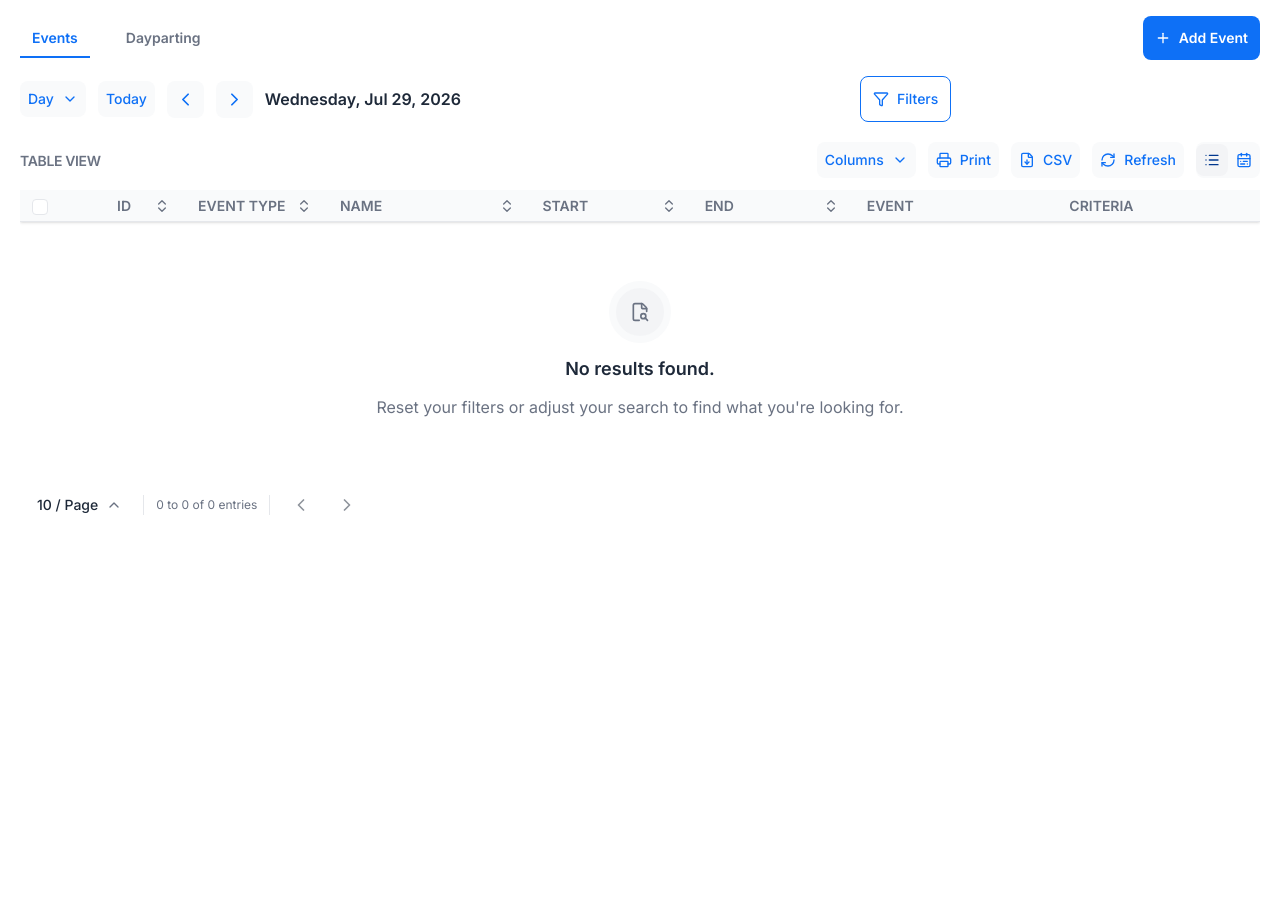
Test: Events page – calendar view toggle › clicking Calendar View toggle switches to calendar view
Click the button titled "Calendar View" at [1244, 160], box x1=1228 y1=144 x2=1260 y2=176
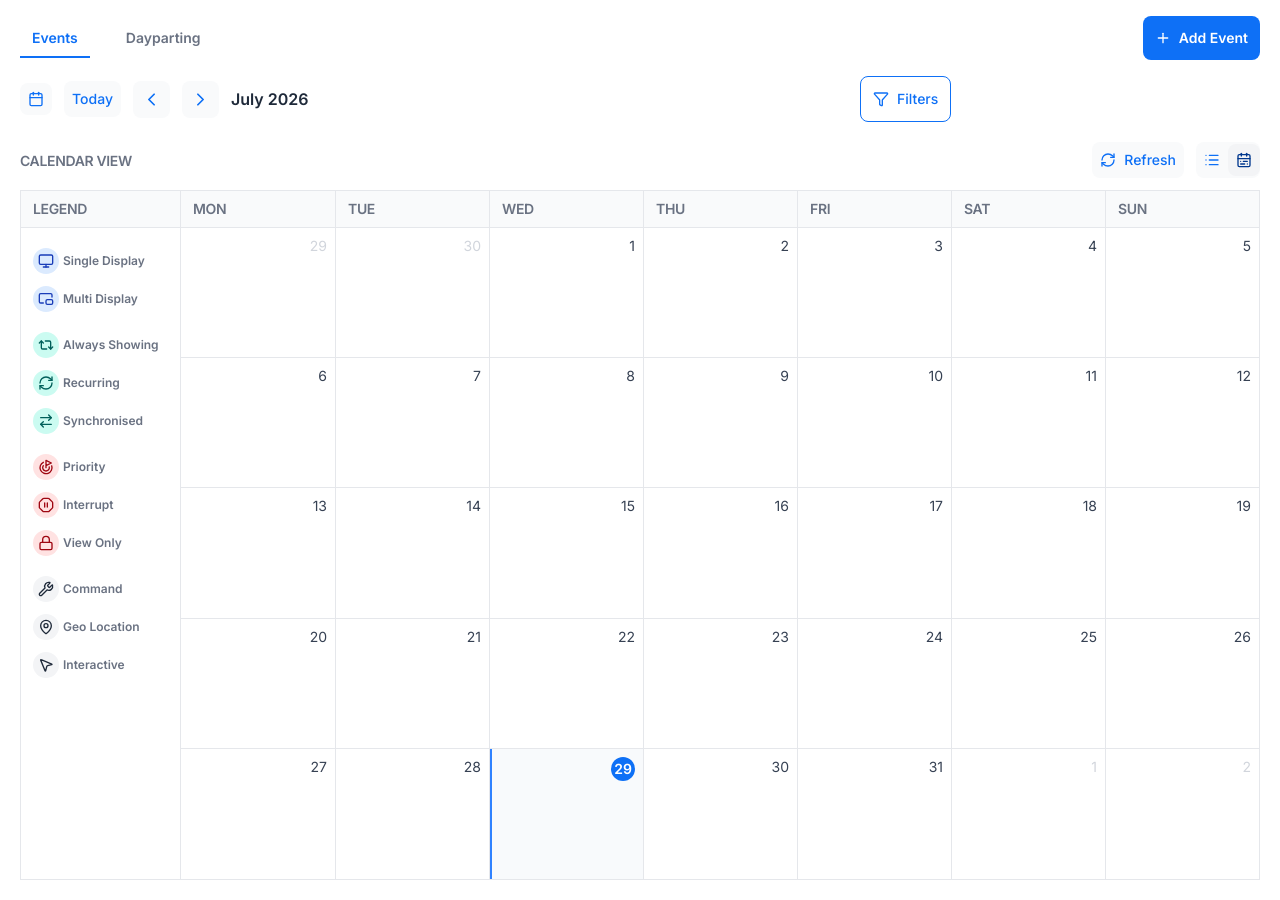
Expected: the text "Calendar View" is shown, x1=20 y1=150 x2=132 y2=170
